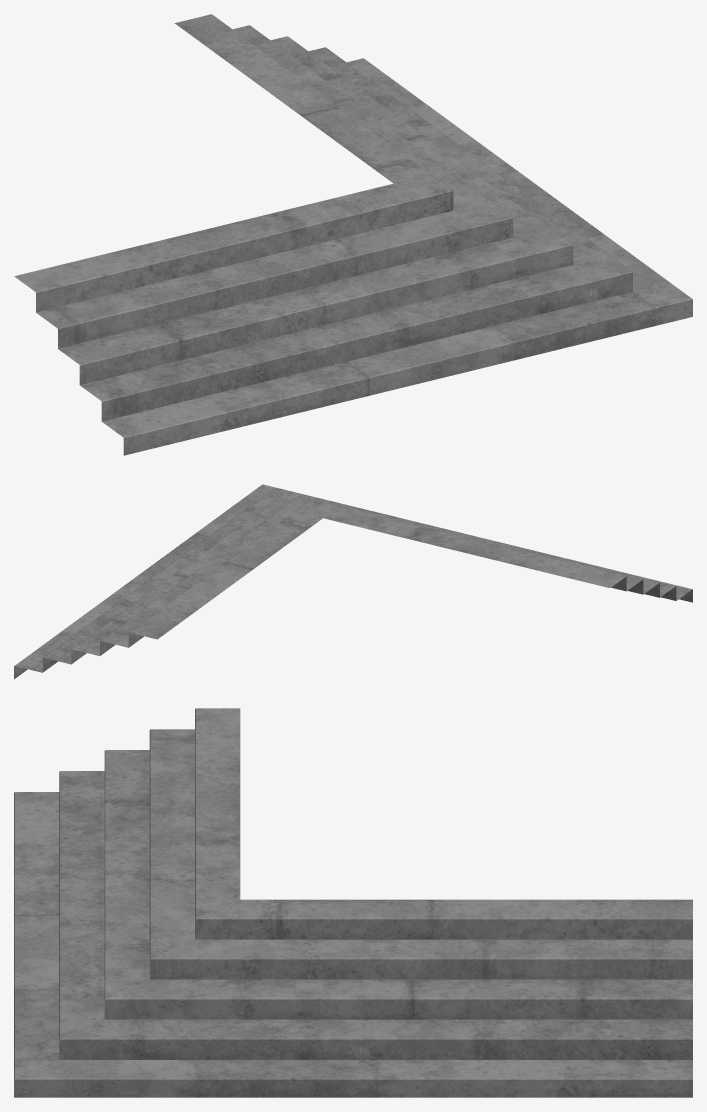
File: SM_Steps_04.fbx
3 views of the same model, one above another, from view 1: azimuth 30°, elevation 25°; view 2: azimuth 150°, elevation 25°; view 3: azimuth 270°, elevation 25° (orthographic). The views are drawn at different scales.
Visible parts, largest first — view 1: SM_Steps_06; view 2: SM_Steps_06; view 3: SM_Steps_06.
Boxes of the visible parts, left/top/right/bottom form: SM_Steps_06: left=14, top=14, right=692, bottom=455; SM_Steps_06: left=14, top=484, right=692, bottom=679; SM_Steps_06: left=14, top=708, right=692, bottom=1097.
Size of the model in its own units: 600 by 100 by 600.
